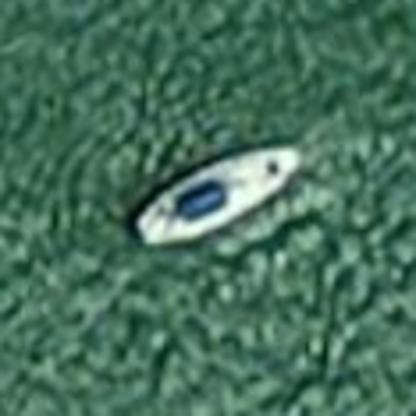ship: (124, 133, 310, 255)
